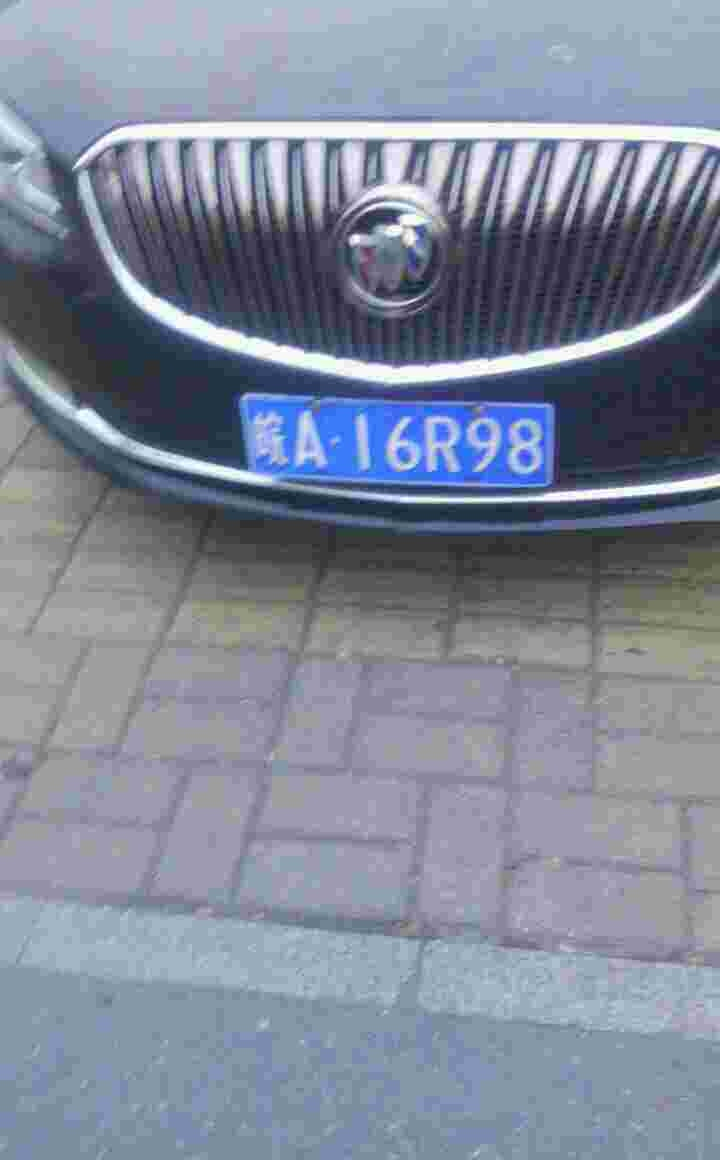license_plate: (245, 388, 557, 493)
